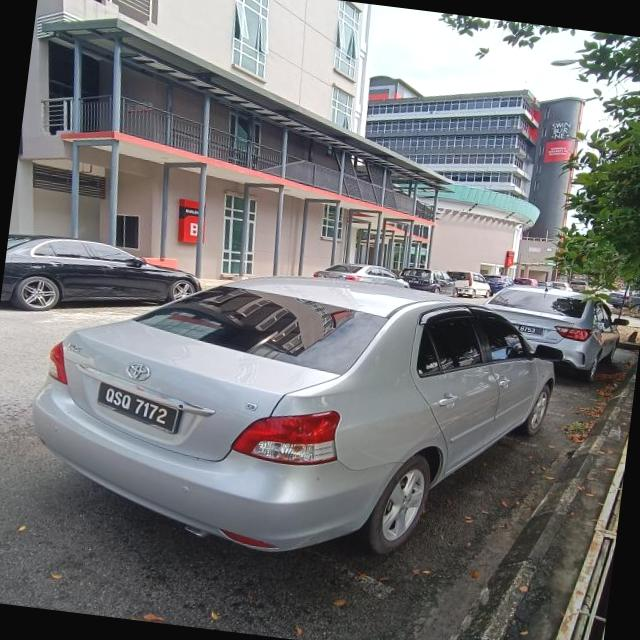ToyotaVios: (16, 238, 568, 585)
